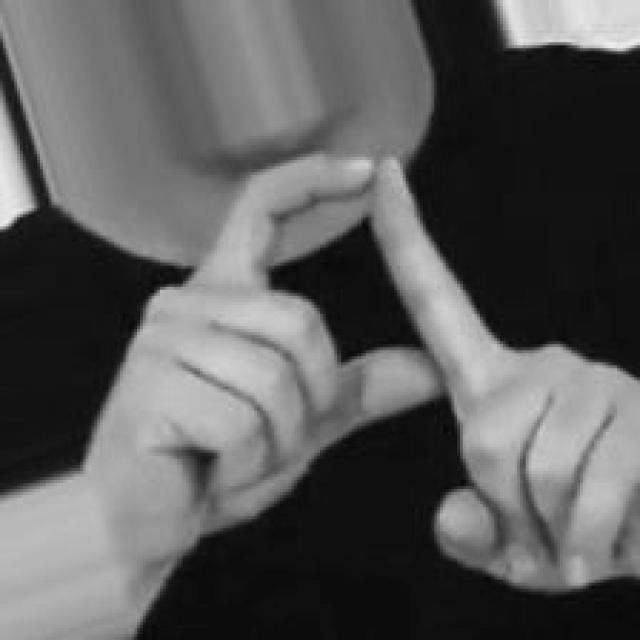D: (107, 154, 630, 598)
